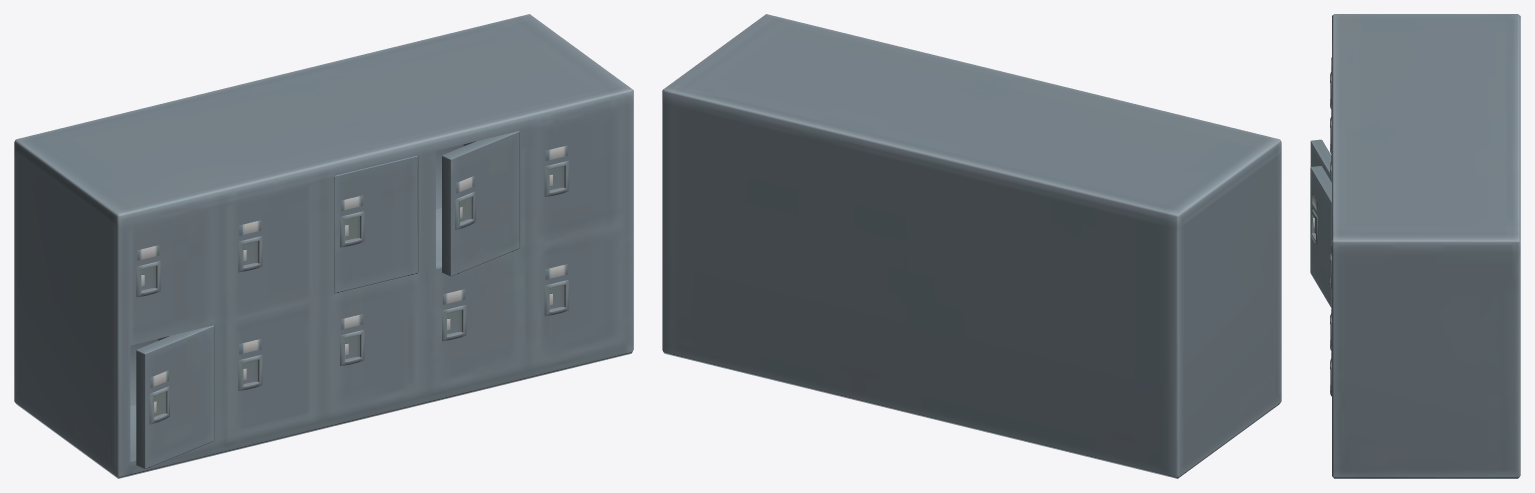
3 views of the same model, side by side, from view 1: azimuth 30°, elevation 25°; view 2: azimuth 150°, elevation 25°; view 3: azimuth 270°, elevation 25° (orthographic). The views are drawn at different scales.
Size of the model in its own units: 20 by 9.8 by 7.8.
1 material, 1 textured.
